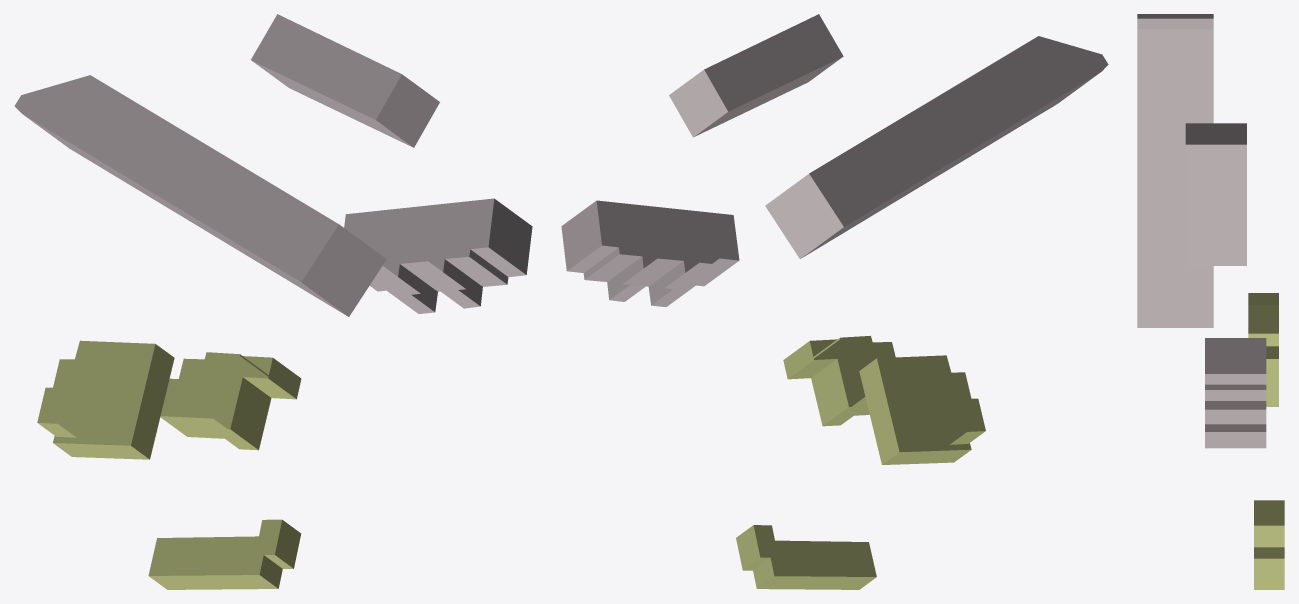
3 renders of one model, left to right at view 1: azimuth 30°, elevation 25°; view 2: azimuth 150°, elevation 25°; view 3: azimuth 270°, elevation 25°, orthographic. The views are drawn at different scales.
Visible parts, largest first — view 1: 0_0_3_2_0_2_0_1; view 2: 0_0_3_2_0_2_0_1; view 3: 0_0_3_2_0_2_0_1.
Boxes of the visible parts, box(x1,y1,x2,y2) form: 0_0_3_2_0_2_0_1: box(14, 14, 532, 589); 0_0_3_2_0_2_0_1: box(561, 14, 1108, 589); 0_0_3_2_0_2_0_1: box(1137, 14, 1284, 589).
Bounding box in the file's own units: 93.02 × 101 × 28.9.
